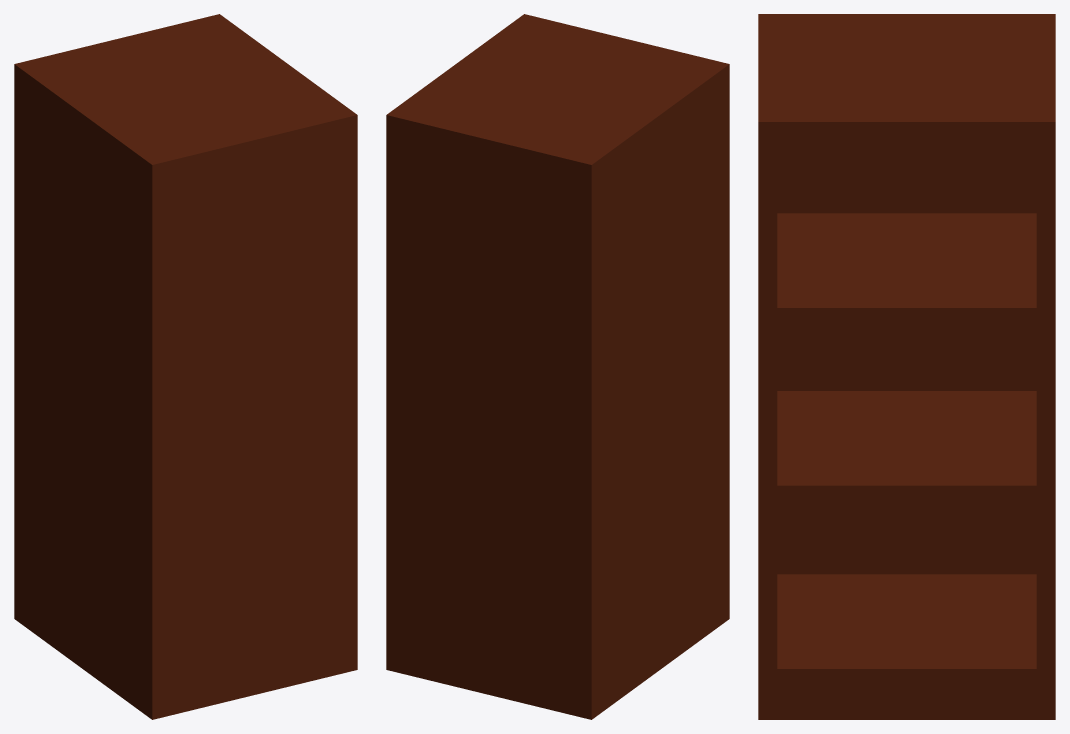
The model's file is Shelf.fbx.
The picture shows the model from 3 angles, left to right: view 1: azimuth 30°, elevation 25°; view 2: azimuth 150°, elevation 25°; view 3: azimuth 270°, elevation 25°; orthographic projection. The views are drawn at different scales.
Visible parts, largest first — view 1: Main.001; view 2: Main.001; view 3: Main.001.
Boxes of the visible parts, x1=… form: Main.001: x1=14, y1=14, x2=357, y2=719; Main.001: x1=386, y1=14, x2=729, y2=719; Main.001: x1=758, y1=14, x2=1055, y2=719.
Size of the model in its own units: 1.23 by 3.19 by 1.44.
